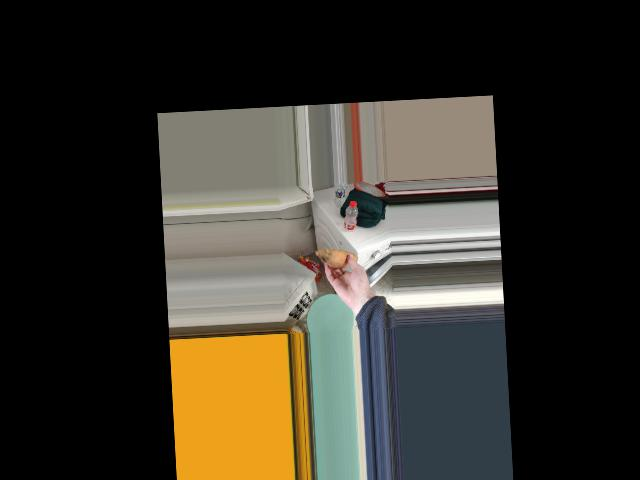sweet_potato: (323, 247, 355, 267)
